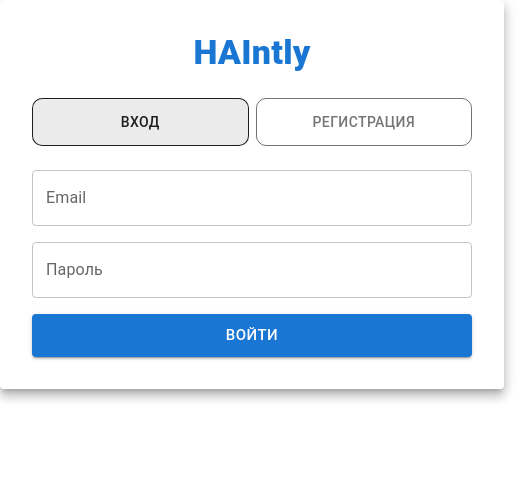
Test case: AuthForm interactions › показывает backend error
The image size is (528, 483).
Click the button "Регистрация": (364, 122) left=256, top=98, right=472, bottom=146
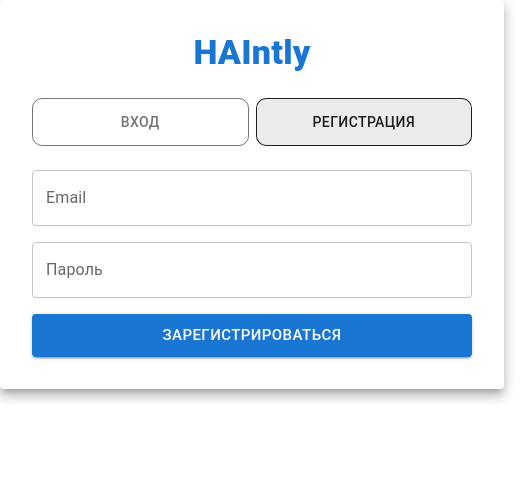
In the field labelled "Email": (252, 198) left=32, top=170, right=472, bottom=226, type "a@b.ru"
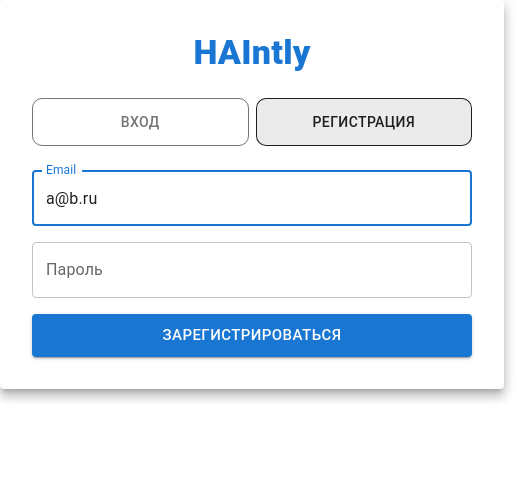
In the password field labelled "Пароль": (252, 270) left=32, top=242, right=472, bottom=298, type "password1"
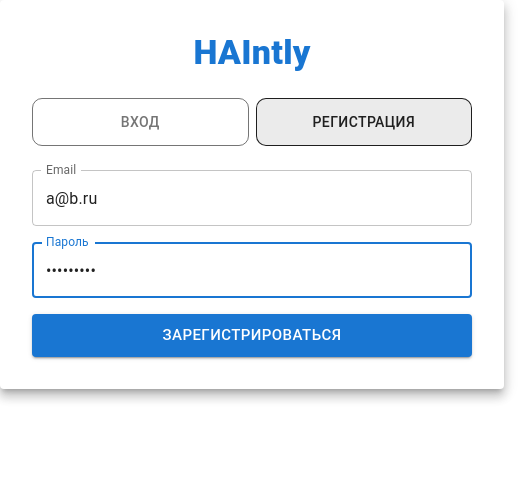
Click the button "Зарегистрироваться": (252, 336) left=32, top=314, right=472, bottom=357
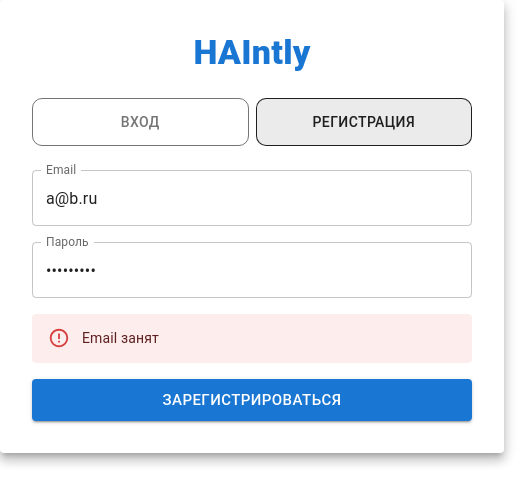
Expected: the message reads "Email занят", left=82, top=330, right=159, bottom=346
